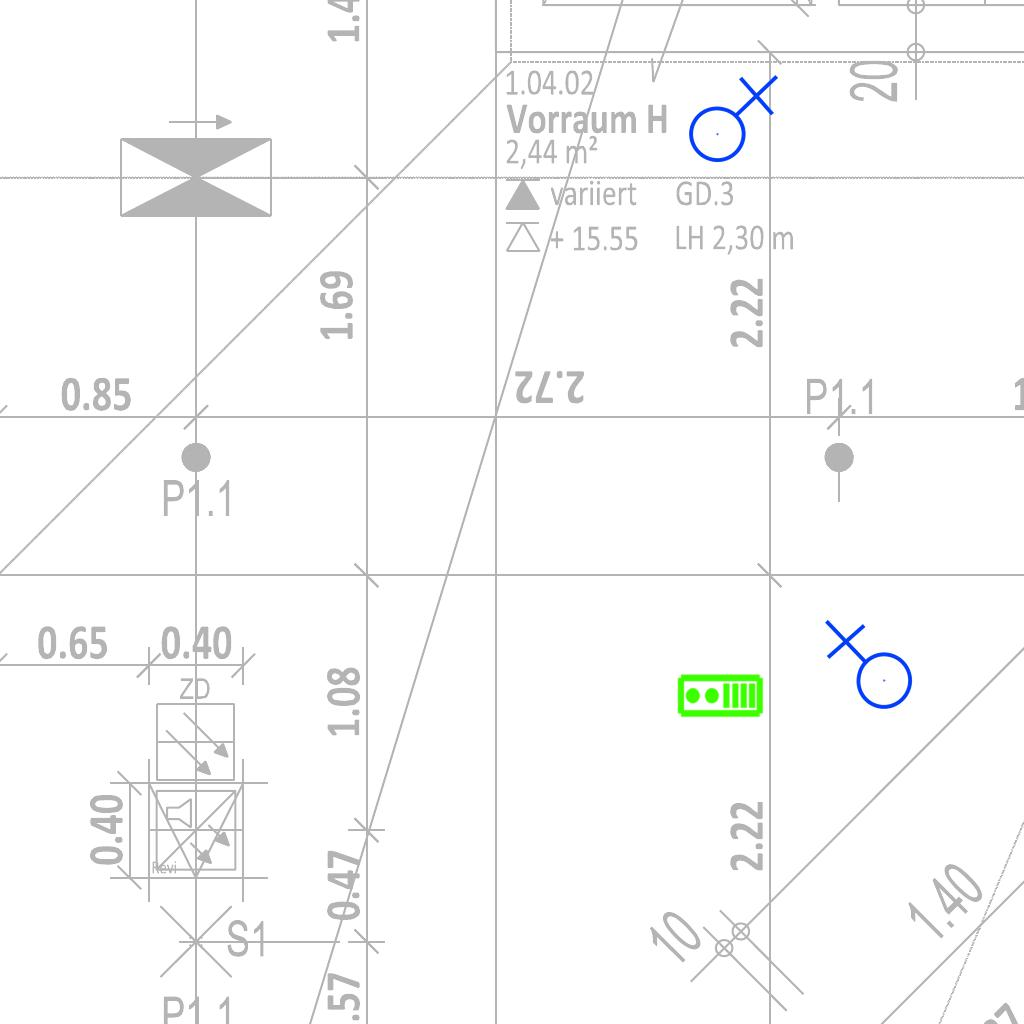Elektroanschluss_allgemein_230V_Geraeteanschlussdose_230V: (820, 619, 914, 718), (680, 70, 779, 164)
Gegensprechanlage_mit_Video: (676, 673, 764, 720)
